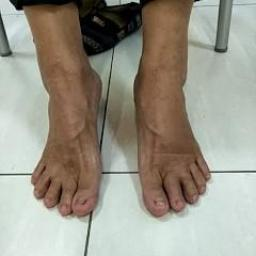Front View -Both Feet-: (17, 48, 223, 230)
